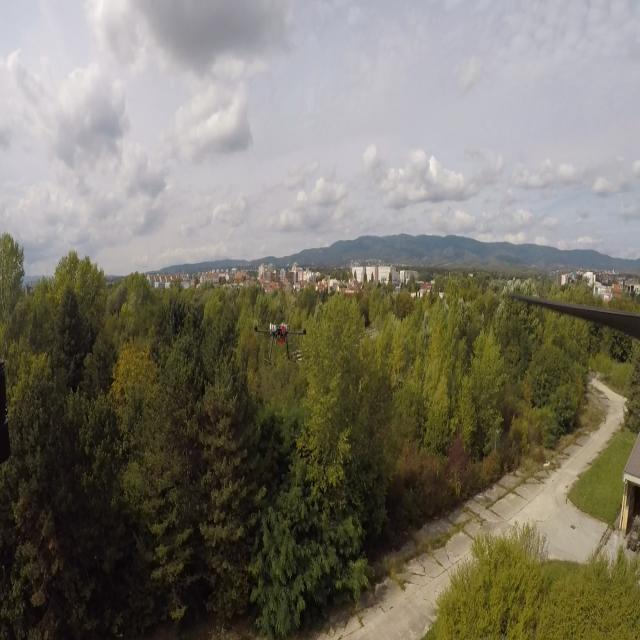UAV: (253, 312, 309, 369)
